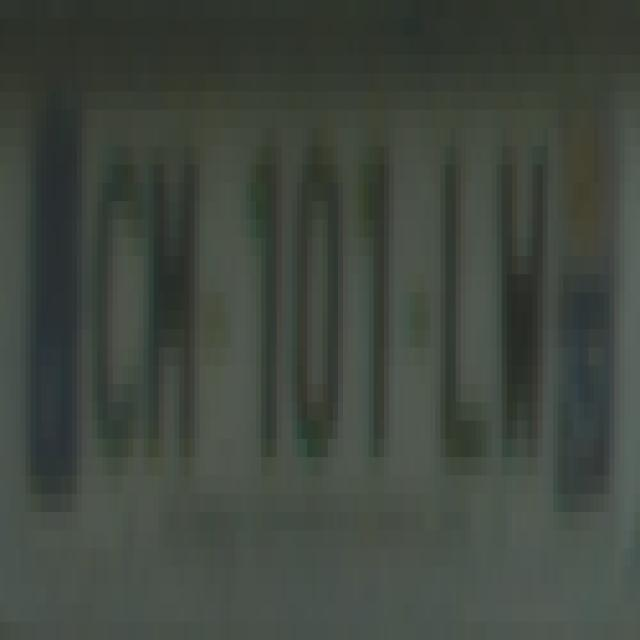Autre: (19, 76, 620, 500)
